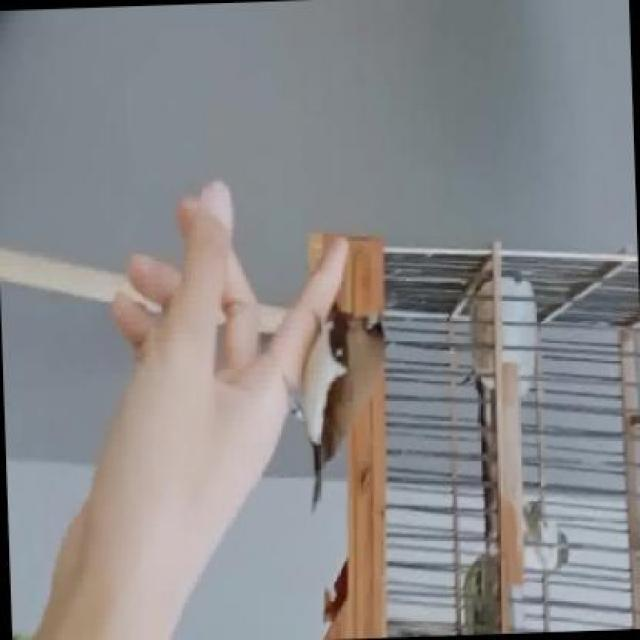Bird: (293, 287, 391, 518)
